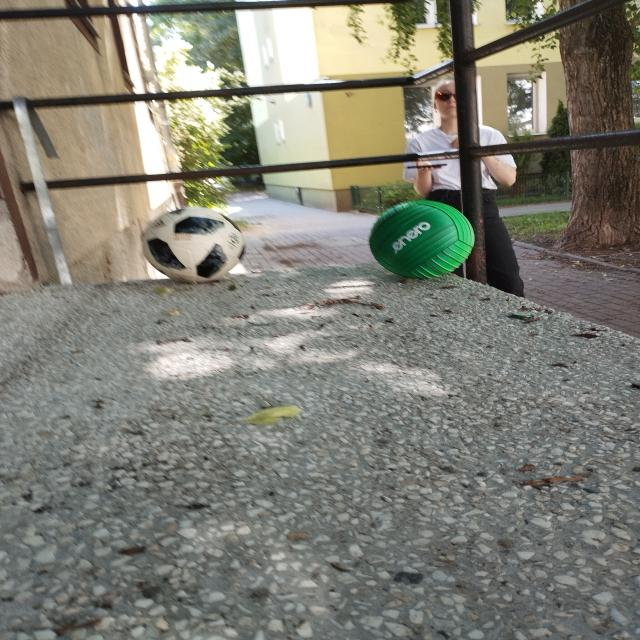nozna: (142, 207, 245, 282)
zielona: (369, 200, 474, 280)
